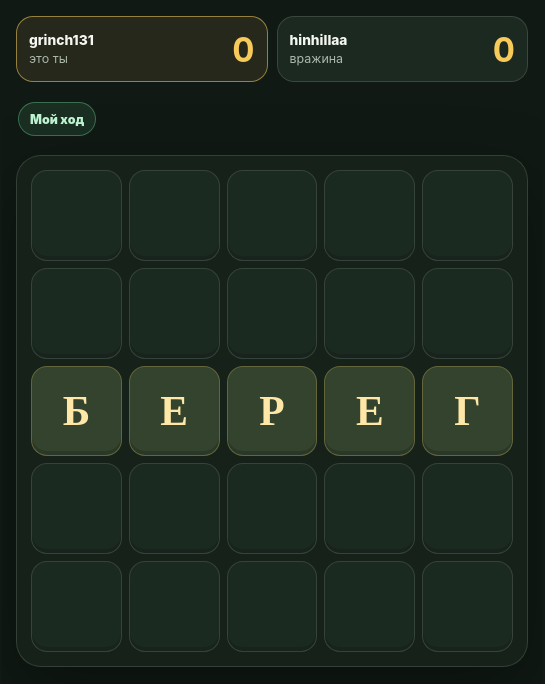
Test case: GameScreen › only reveals surrender during the current player turn
Click the button "Мой ход" at [57, 119], box [18,102,96,136]
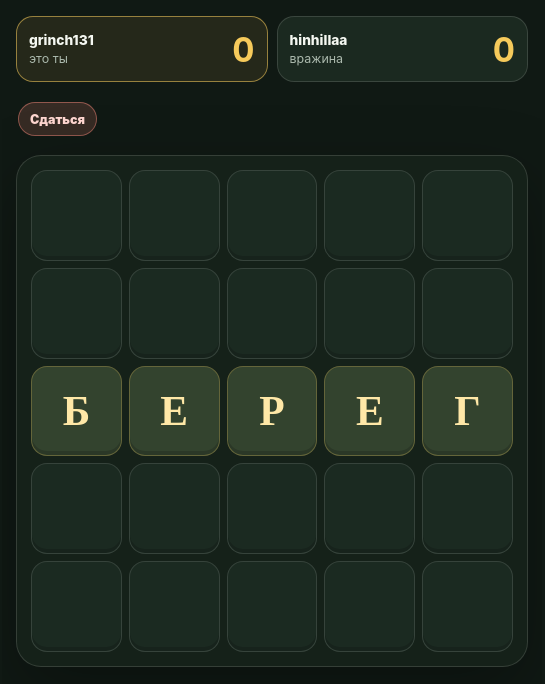
Now the button "Сдаться" is shown, box [18,102,97,136]
